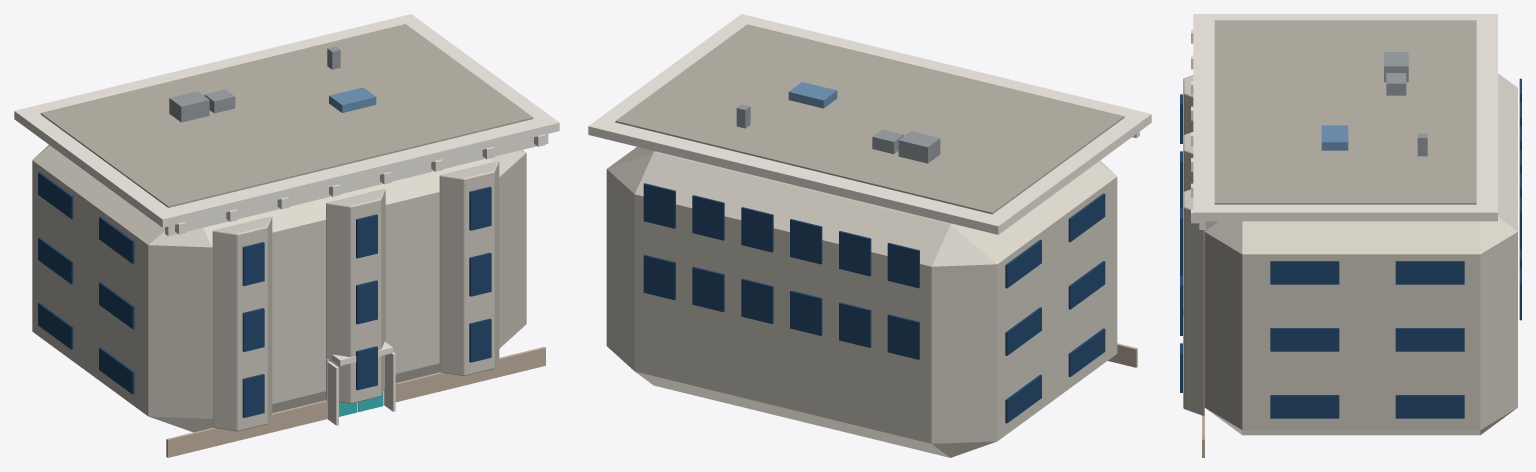
Rendered from apt_w20_f3_bays.glb.
3 renders of one model, left to right at view 1: azimuth 30°, elevation 25°; view 2: azimuth 150°, elevation 25°; view 3: azimuth 270°, elevation 25°, orthographic. The views are drawn at different scales.
Parts seen in each view (by area): view 1: walls, roofslab, corn, bay.002, bay, bay.001, bsmt, frieze, hvac, bw.007, bw.008, bw (+16 smaller); view 2: walls, roofslab, corn, win.010, win, win.001, win.003, win.004, win.005, win.007, win.008, win.009 (+12 smaller); view 3: walls, roofslab, corn, bay.002, sb.001, sb.003, sb.005, sb.007, sb.009, sb.011, skylt, hvac (+3 smaller).
Part boxes in pixels (<box>): walls: <box>32,145,526,432</box>; roofslab: <box>40,24,533,207</box>; corn: <box>14,14,559,227</box>; bay.002: <box>439,161,499,375</box>; bay: <box>212,216,272,431</box>; bay.001: <box>326,188,385,403</box>; bsmt: <box>166,347,545,457</box>; frieze: <box>165,134,548,236</box>; hvac: <box>169,91,209,122</box>; bw.007: <box>469,252,491,296</box>; bw.008: <box>469,186,491,230</box>; bw: <box>242,374,264,417</box>; walls: <box>606,147,1117,457</box>; roofslab: <box>615,24,1124,214</box>; corn: <box>588,14,1151,234</box>; win.010: <box>692,195,724,240</box>; win: <box>887,314,919,359</box>; win.001: <box>839,302,871,347</box>; win.003: <box>741,278,773,323</box>; win.004: <box>692,266,724,312</box>; win.005: <box>643,254,675,300</box>; win.007: <box>839,231,871,276</box>; win.008: <box>790,219,822,264</box>; win.009: <box>741,207,773,252</box>; walls: <box>1204,73,1517,435</box>; roofslab: <box>1214,20,1476,204</box>; corn: <box>1193,14,1497,221</box>; bay.002: <box>1183,189,1204,415</box>; sb.001: <box>1270,395,1339,418</box>; sb.003: <box>1395,395,1464,418</box>; sb.005: <box>1270,328,1339,351</box>; sb.007: <box>1395,328,1464,351</box>; sb.009: <box>1270,261,1339,284</box>; sb.011: <box>1395,261,1464,284</box>; skylt: <box>1321,125,1348,150</box>; hvac: <box>1384,52,1408,82</box>.
Size of the model in its own units: 21 by 13.3 by 15.26.
